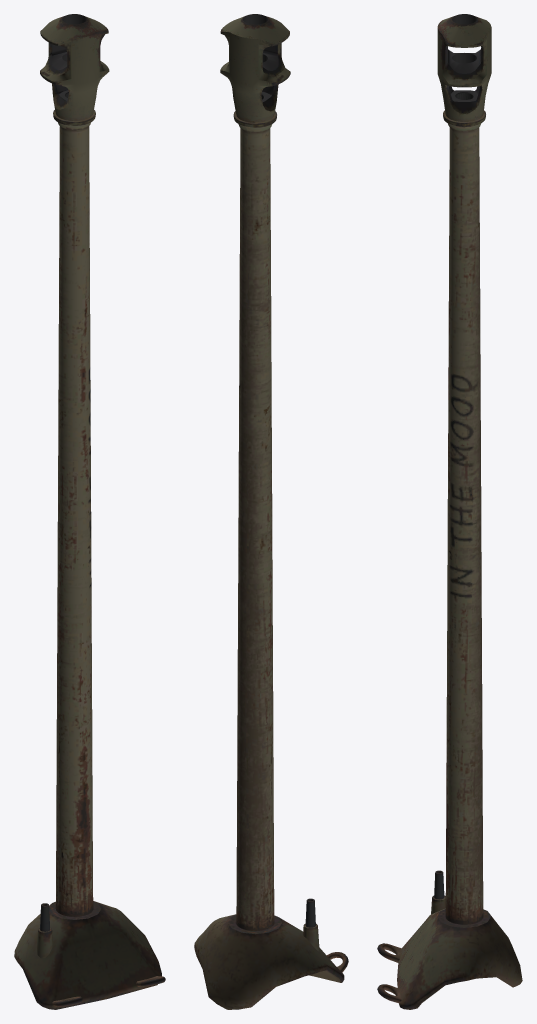
The model's file is Gun_06.glb.
3 views of the same model, side by side, from view 1: azimuth 30°, elevation 25°; view 2: azimuth 150°, elevation 25°; view 3: azimuth 270°, elevation 25° (orthographic).
Visible parts, largest first — view 1: set_0_group_0; view 2: set_0_group_0; view 3: set_0_group_0.
Boxes of the visible parts, x1,y1,x2,y2 form: set_0_group_0: (14,14,165,1009); set_0_group_0: (194,14,348,1009); set_0_group_0: (377,14,522,1009).
Bounding box in the file's own units: 0.7462 × 5.49 × 0.7505.
1 material, 1 textured.
